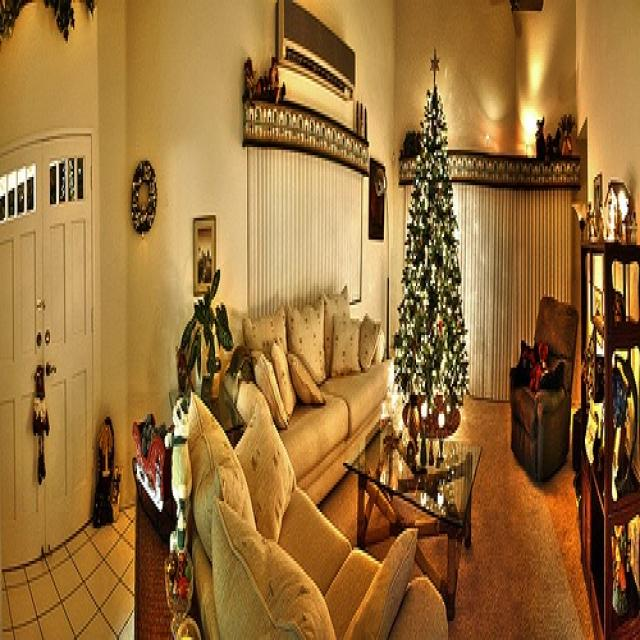chair: (507, 286, 575, 485)
sofa: (172, 398, 450, 637), (241, 281, 394, 512)
